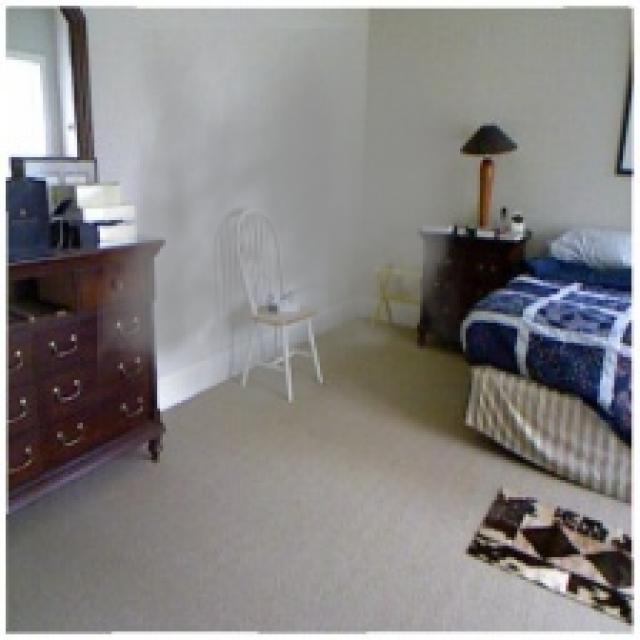smoke: (97, 28, 474, 443)
